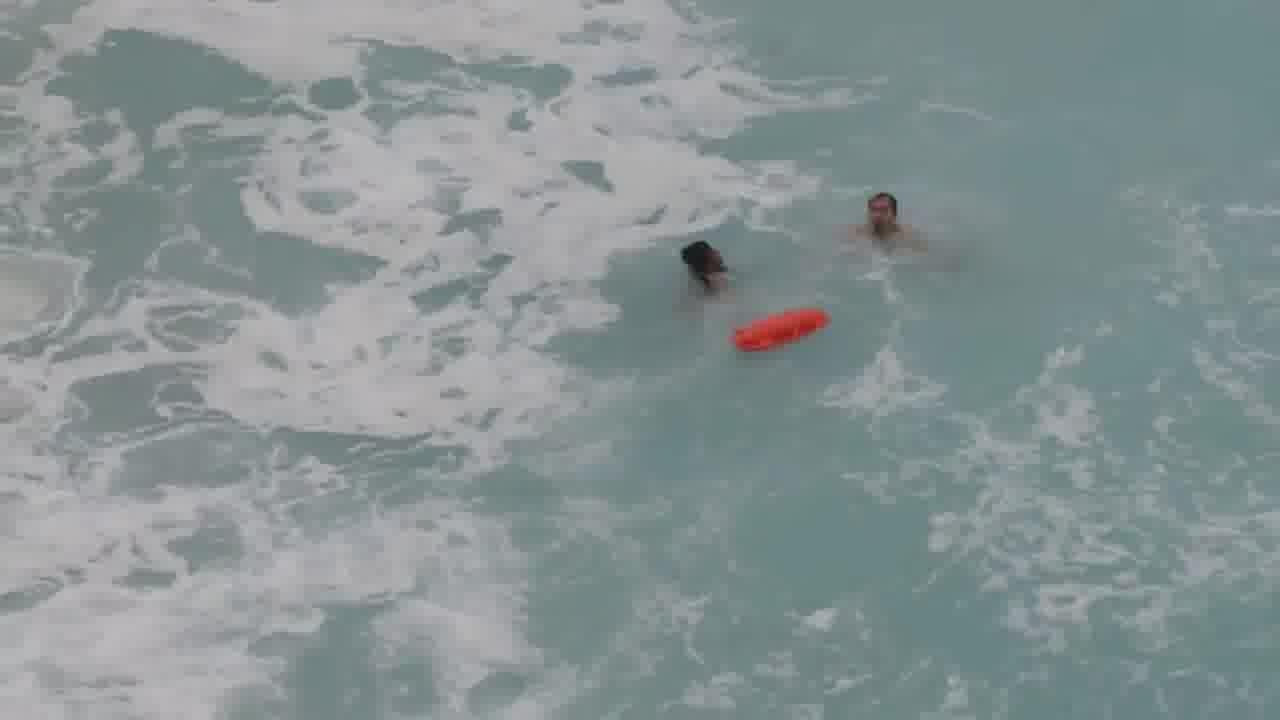human: (670, 233, 736, 290), (859, 184, 911, 245)
